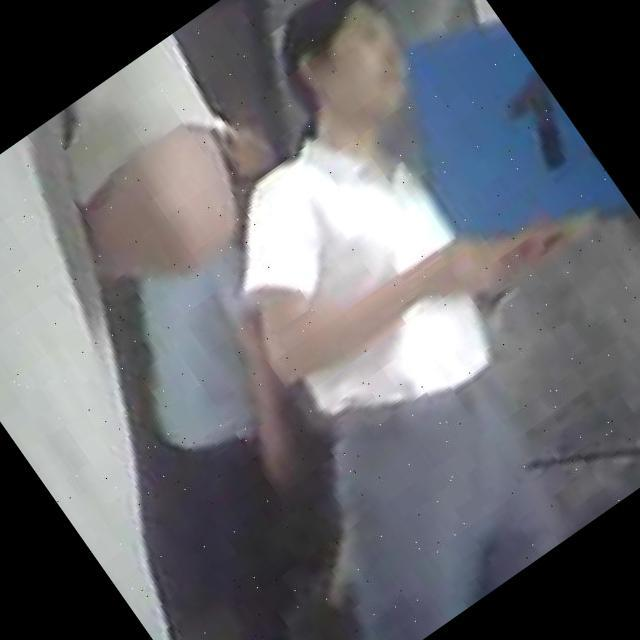person: (46, 0, 640, 640), (0, 31, 474, 640), (0, 222, 492, 640)
